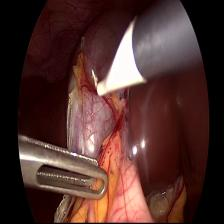Grasper: (16, 125, 111, 207)
Hook: (87, 15, 150, 105)
